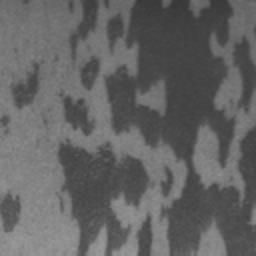Red iron sheet: (81, 0, 256, 256), (56, 144, 152, 256), (68, 0, 109, 60), (62, 95, 94, 135), (11, 63, 39, 108), (0, 193, 21, 232), (161, 168, 173, 196), (0, 115, 10, 126), (42, 114, 49, 129)
